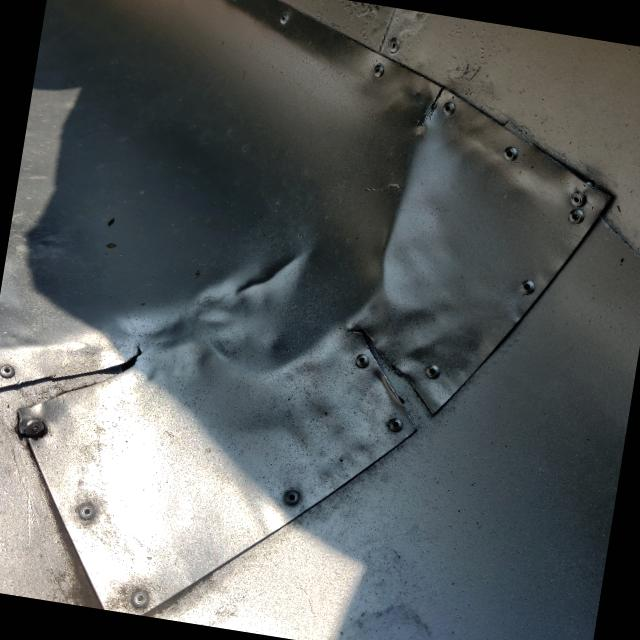dent: (98, 32, 486, 416)
